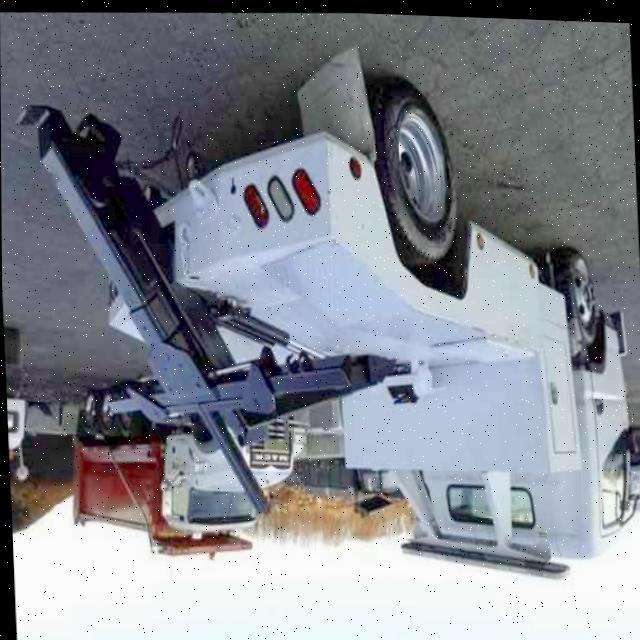truck: (14, 42, 640, 596), (64, 362, 310, 570)
